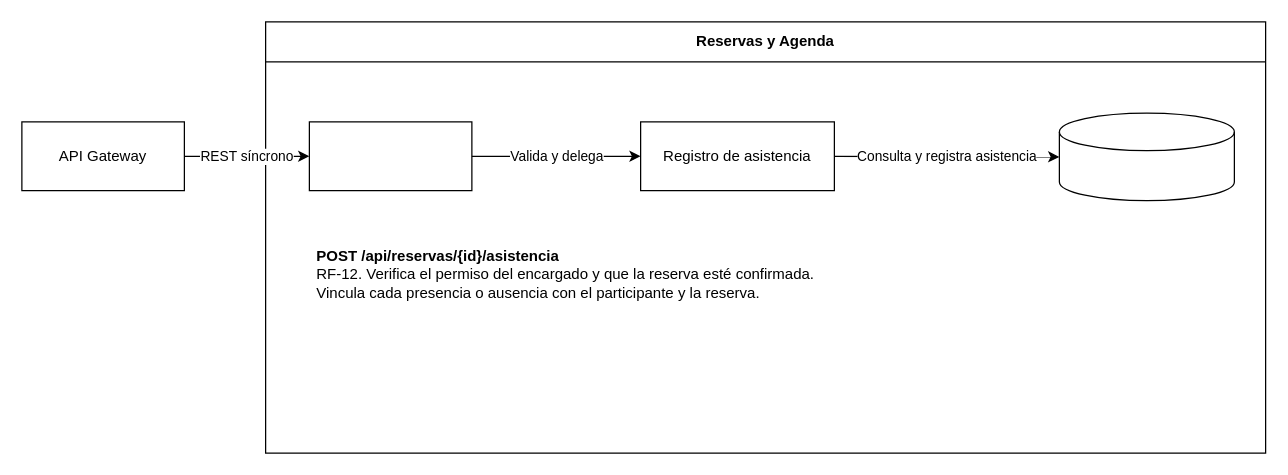
The diagram is 1288 pixels wide and 475 high, and some of its shapes have lost their labels. Here are the shapes that lost their labels. From the top down, the centre of each, then its label:
point 390,156: API de agenda
point 1146,156: BD propia de Agenda
